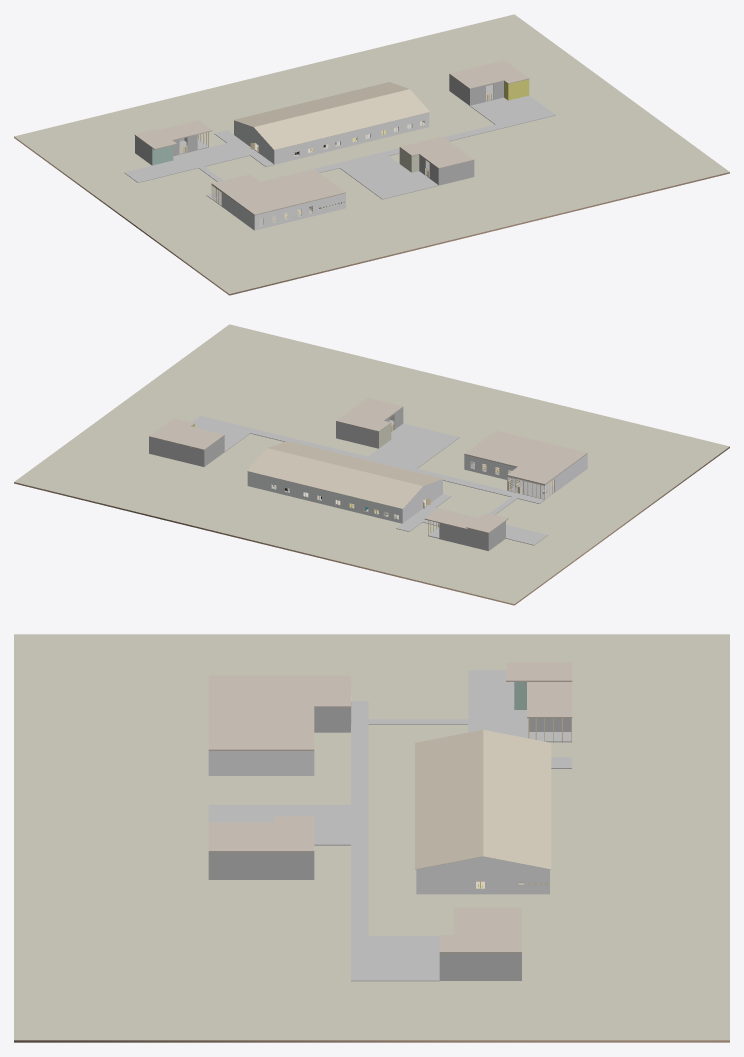
Rendered from WeldingWorkshop.fbx.
3 renders of one model, top to bottom at view 1: azimuth 30°, elevation 25°; view 2: azimuth 150°, elevation 25°; view 3: azimuth 270°, elevation 25°, orthographic. The views are drawn at different scales.
Parts seen in each view (by area): view 1: Carpet - 03, Brick - White Natural, Stn-Limestone, Roof Tiles - Cedar Shingle Light, SKP_CoolGray4, Surf-Stucco White, LS-Earth, Wd-Pine Horizontal, Glass-Clear, Tiles - White Matte 15x15; view 2: Carpet - 03, Stn-Limestone, Roof Tiles - Cedar Shingle Light, Brick - White Natural, SKP_CoolGray4, Surf-Stucco White, LS-Earth, Glass-Clear, Tiles - White Matte 15x15, Wd-Pine Horizontal; view 3: Carpet - 03, Stn-Limestone, Roof Tiles - Cedar Shingle Light, Brick - White Natural, SKP_CoolGray4, Surf-Stucco White, LS-Earth, Surf-Stucco.
Boxes of the visible parts, box(x1,y1,x2,y2) form: Carpet - 03: box(14, 14, 729, 293); Brick - White Natural: box(124, 95, 555, 199); Stn-Limestone: box(134, 60, 529, 215); Roof Tiles - Cedar Shingle Light: box(233, 82, 429, 149); SKP_CoolGray4: box(211, 112, 429, 230); Surf-Stucco White: box(135, 74, 503, 185); LS-Earth: box(14, 136, 729, 295); Wd-Pine Horizontal: box(179, 92, 493, 226); Glass-Clear: box(180, 85, 492, 225); Tiles - White Matte 15x15: box(179, 84, 493, 225); Carpet - 03: box(14, 324, 729, 603); Stn-Limestone: box(149, 397, 587, 533); Roof Tiles - Cedar Shingle Light: box(247, 441, 443, 508); Brick - White Natural: box(192, 416, 547, 545); SKP_CoolGray4: box(247, 454, 587, 523); Surf-Stucco White: box(149, 407, 505, 550); LS-Earth: box(14, 446, 729, 605); Glass-Clear: box(272, 416, 554, 518); Tiles - White Matte 15x15: box(389, 420, 553, 537); Wd-Pine Horizontal: box(271, 415, 554, 519); Carpet - 03: box(14, 634, 729, 1040); Stn-Limestone: box(208, 662, 572, 953); Roof Tiles - Cedar Shingle Light: box(415, 729, 551, 869); Brick - White Natural: box(208, 670, 571, 981); SKP_CoolGray4: box(208, 751, 549, 894); Surf-Stucco White: box(208, 718, 571, 980); LS-Earth: box(14, 1040, 729, 1042); Surf-Stucco: box(314, 707, 571, 883).
Bounding box in the file's own units: 17681 × 837 × 13184.
